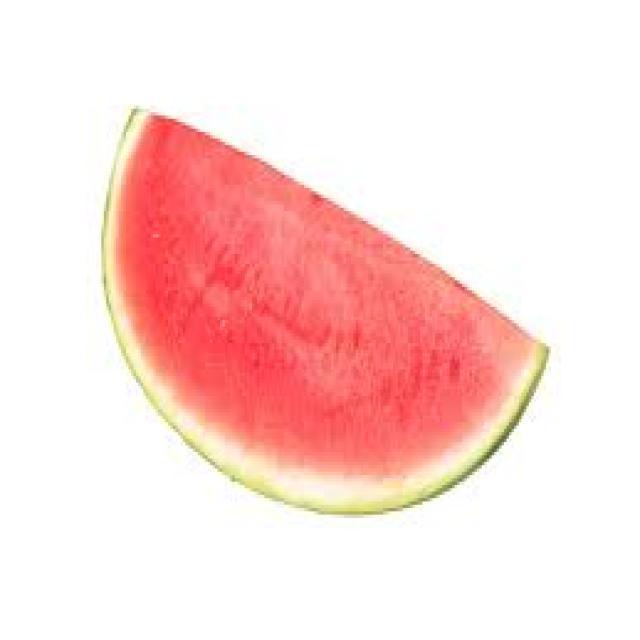Watermelon: (64, 83, 586, 541)
